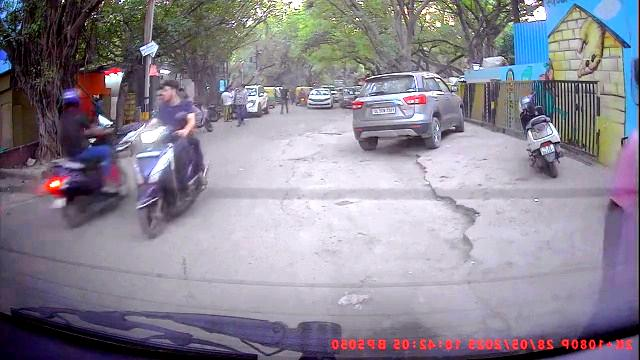motorcycle_with_helmet: (42, 87, 125, 230), (520, 95, 564, 180)
motorcycle_without_helmet: (132, 78, 210, 241)
